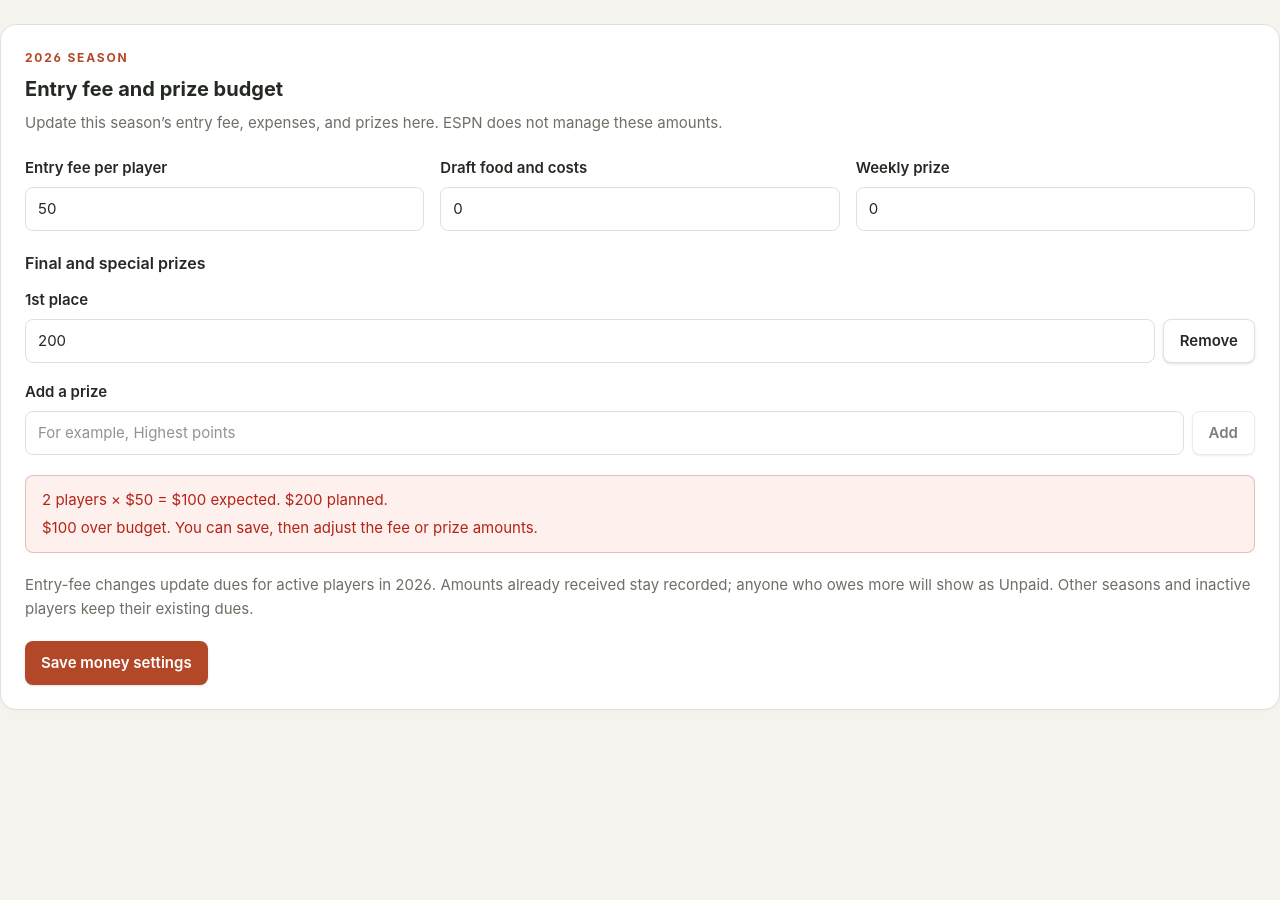
Test: lets the commissioner fix an over-budget plan, preserves edits on failure, and saves the selected season
This screenshot has width=1280, height=900.
Expected: the text "over budget" is shown, [42,518,538,537]
Expected: the button "Save money settings" is enabled, [25,641,208,685]
Replace the text in the number field labelled "Entry fee per player" with "100" at (225, 209), box [25,187,424,231]
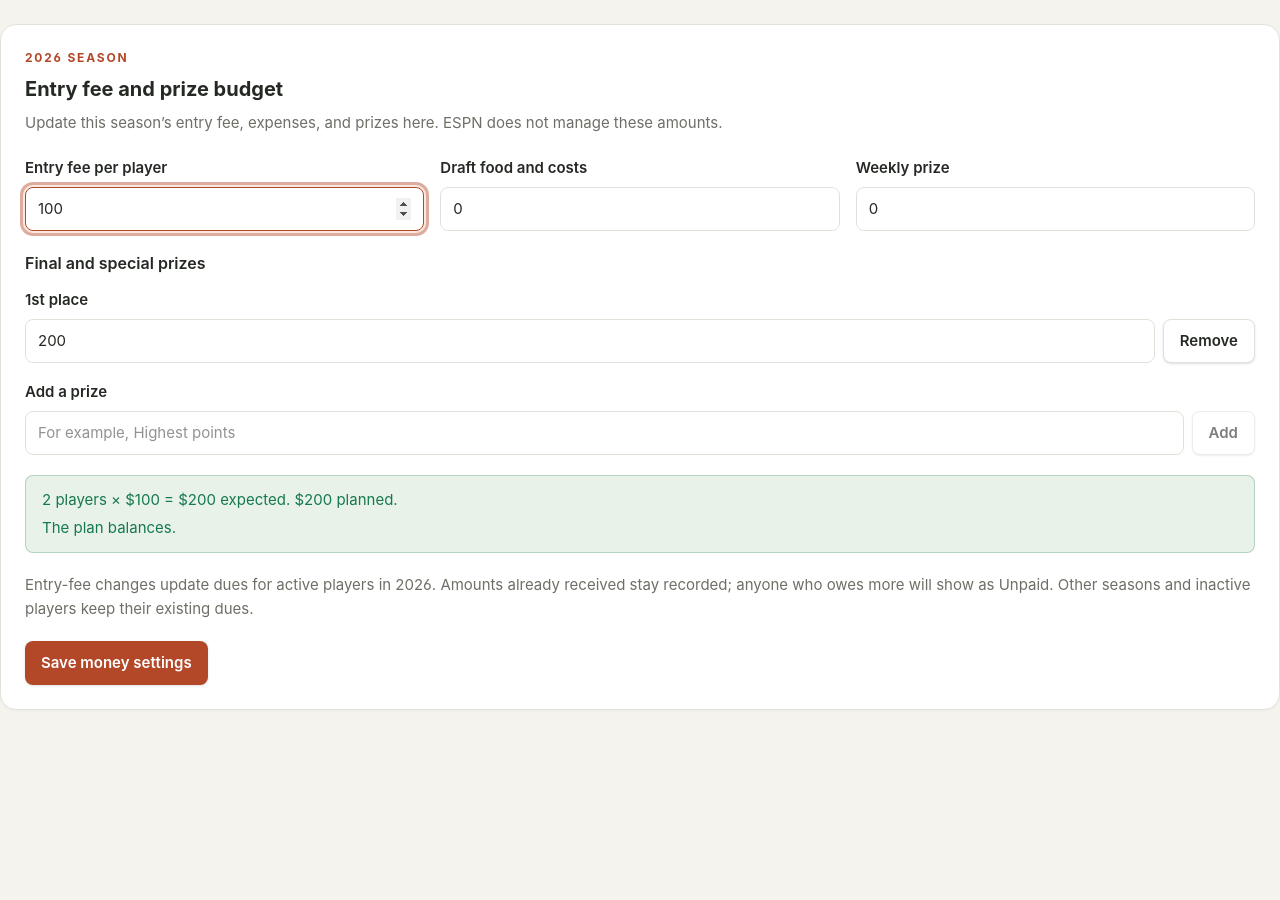
Now the text "The plan balances." is shown, box [42,518,176,537]
Click the button "Save money settings".
click(116, 663)  # box [25,641,208,685]
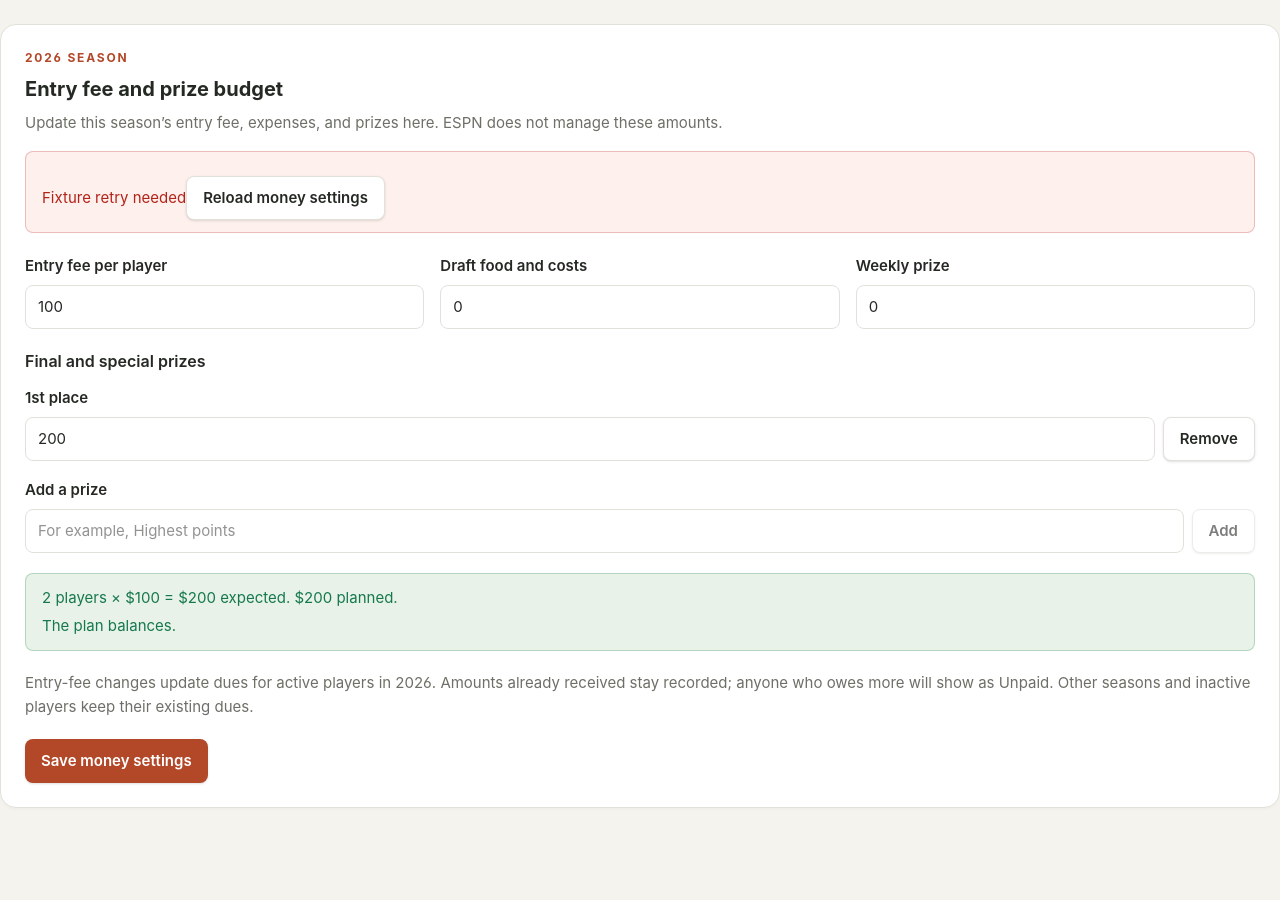
Now the text "Fixture retry needed" is shown, box [42,188,186,207]
Click the button "Save money settings".
click(116, 761)  # box [25,739,208,783]
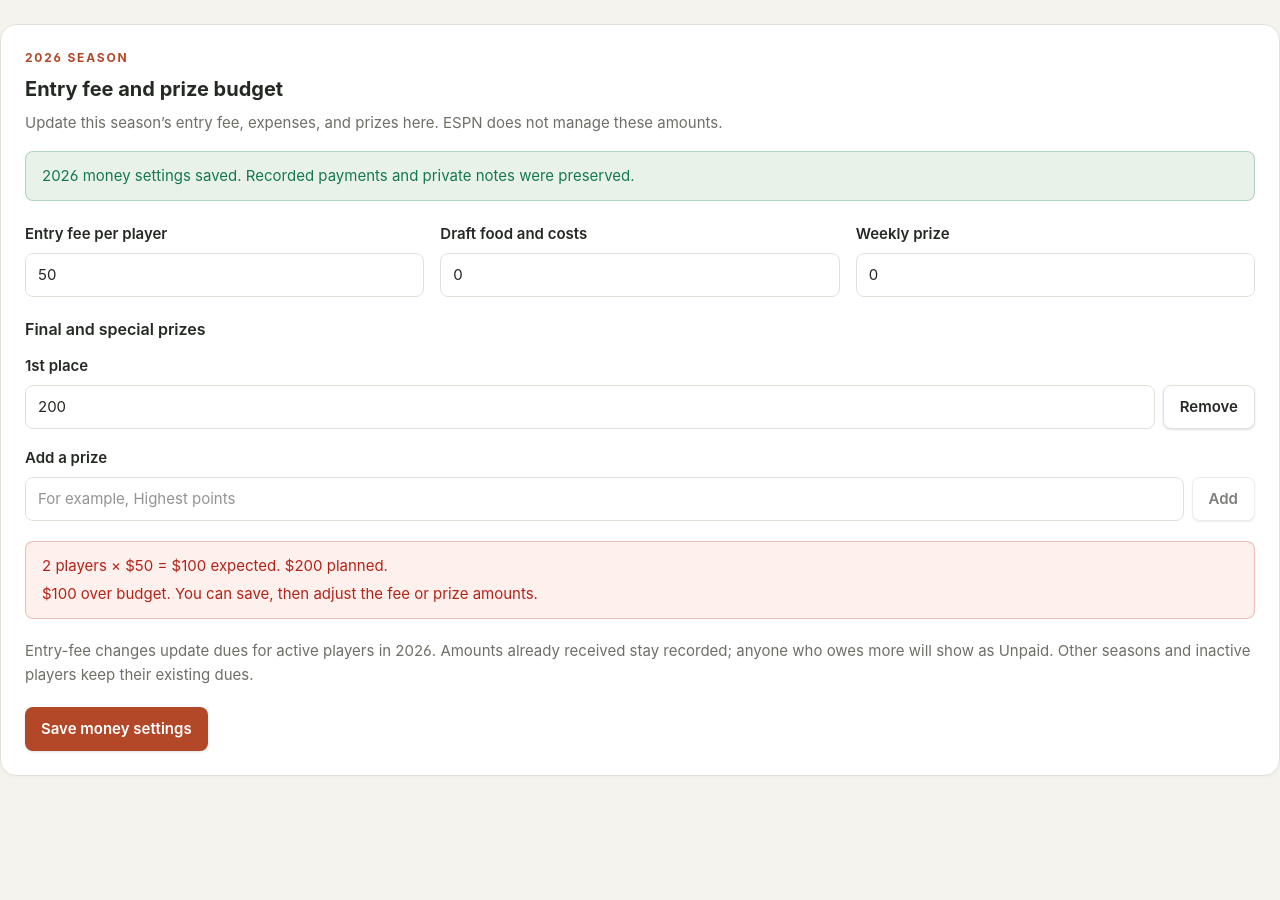
Now the text "2026 money settings saved. Recorded payments and private notes were preserved." is shown, box [25,151,1255,201]
